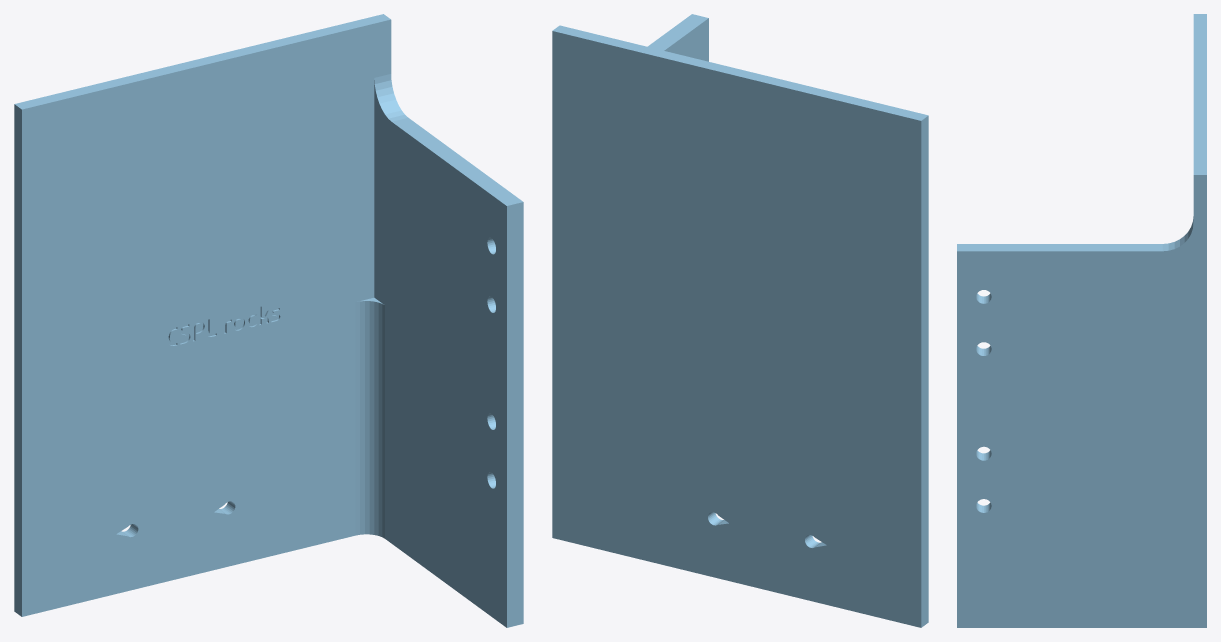
File: cpsl_power_mount.glb
The picture shows the model from 3 angles, left to right: view 1: azimuth 30°, elevation 25°; view 2: azimuth 150°, elevation 25°; view 3: azimuth 270°, elevation 25°; orthographic projection. The views are drawn at different scales.
Bounding box in the file's own units: 99 × 130 × 65.
